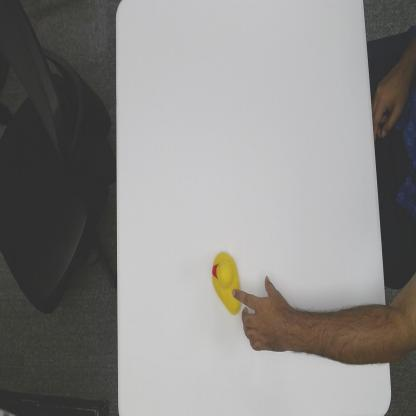Arm: (291, 307, 391, 367)
Duck: (210, 247, 244, 319)
Hand: (233, 276, 291, 352)
